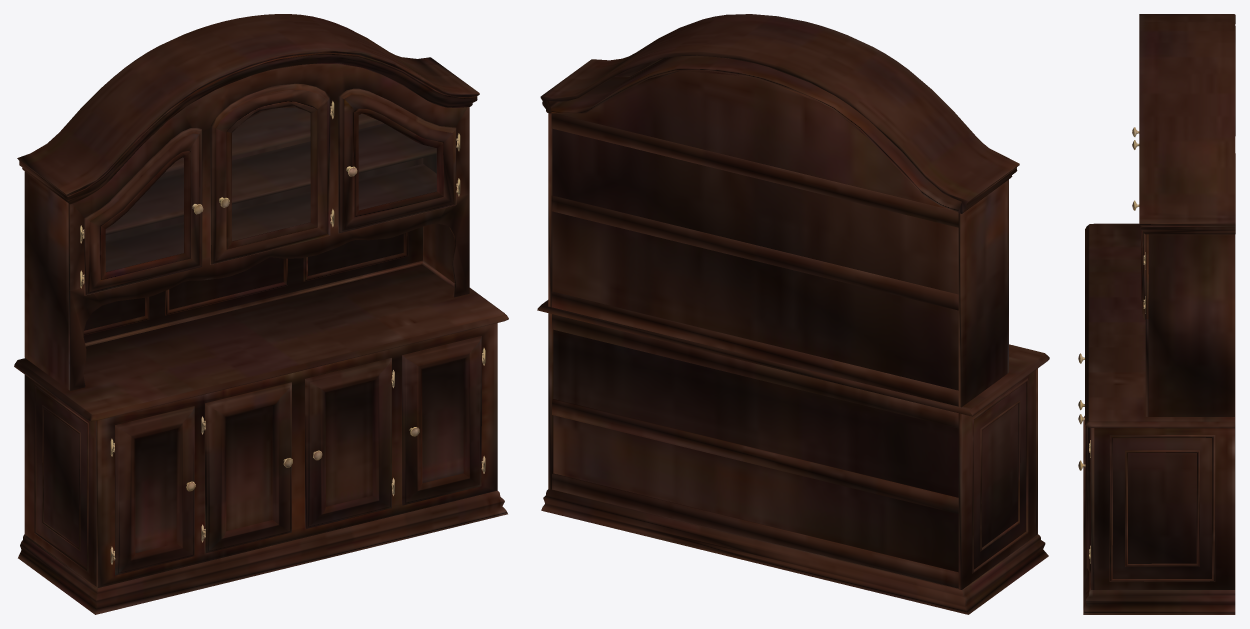
File: wardrobe-vintage.lite.d0d0b626.glb
3 views of the same model, side by side, from view 1: azimuth 30°, elevation 25°; view 2: azimuth 150°, elevation 25°; view 3: azimuth 270°, elevation 25° (orthographic). The views are drawn at different scales.
Visible parts, largest first — view 1: model; view 2: model; view 3: model.
Boxes of the visible parts, box(x1,y1,x2,y2) form: model: box(14, 14, 508, 614); model: box(537, 14, 1049, 614); model: box(1078, 14, 1235, 614).
Size of the model in its own units: 2.02 by 2.23 by 0.6698.
Materials: 3 (2 with a texture image).
